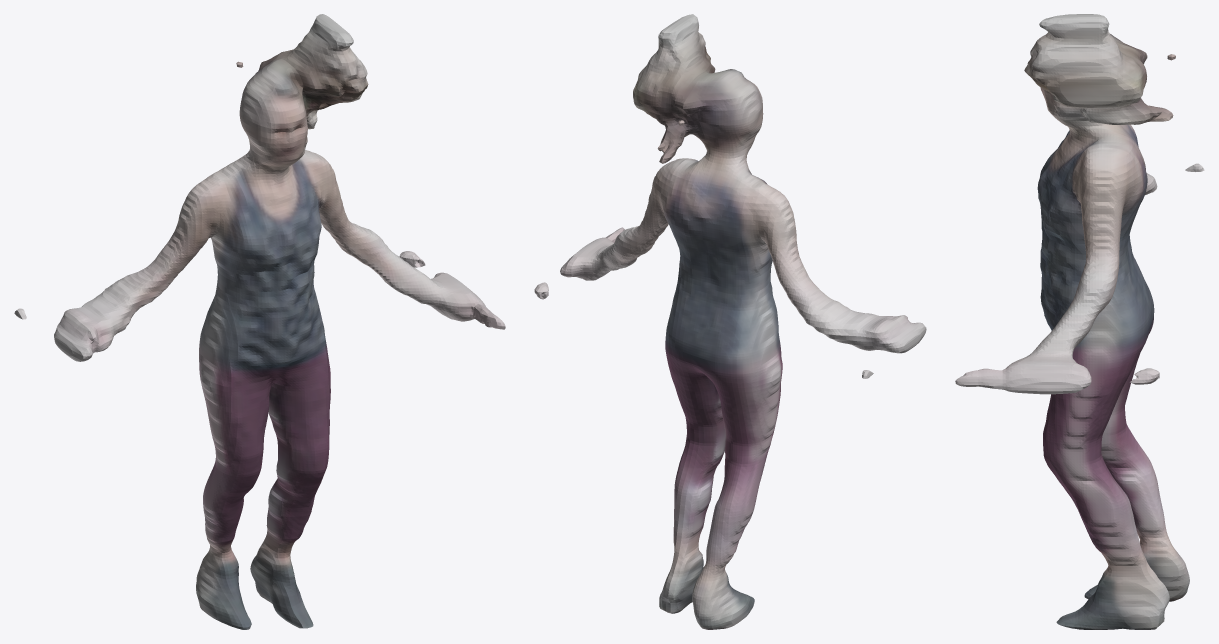
The model's file is 0133_tex.glb.
The picture shows the model from 3 angles, left to right: view 1: azimuth 30°, elevation 25°; view 2: azimuth 150°, elevation 25°; view 3: azimuth 270°, elevation 25°; orthographic projection. The views are drawn at different scales.
Parts seen in each view (by area): view 1: 0133_tex.obj; view 2: 0133_tex.obj; view 3: 0133_tex.obj.
Boxes of the visible parts, x1=… form: 0133_tex.obj: x1=14, y1=14, x2=505, y2=629; 0133_tex.obj: x1=534, y1=14, x2=926, y2=629; 0133_tex.obj: x1=955, y1=14, x2=1204, y2=629.
Bounding box in the file's own units: 0.6063 × 0.894 × 0.3228.
